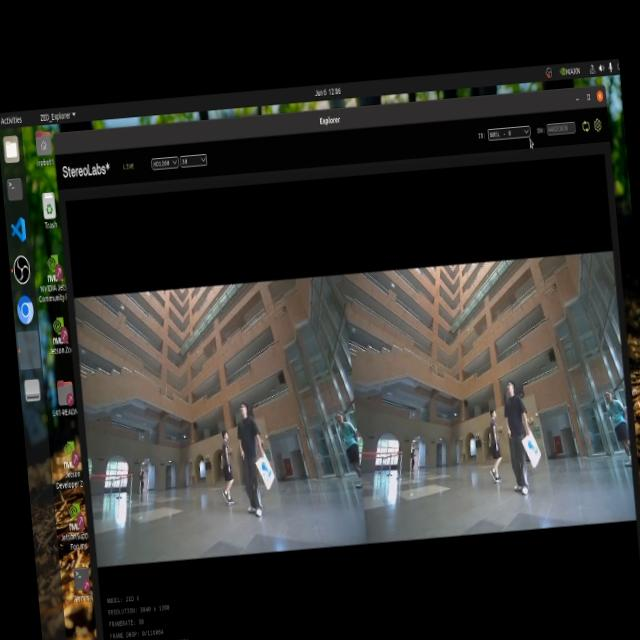blue: (256, 450, 278, 486), (524, 434, 544, 462)
